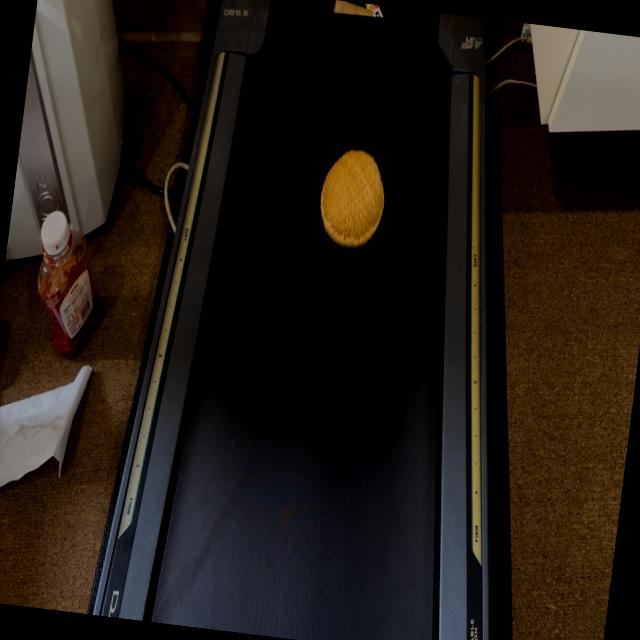Recycle: (330, 0, 374, 17)
Trash: (315, 144, 390, 247), (362, 3, 386, 20)
